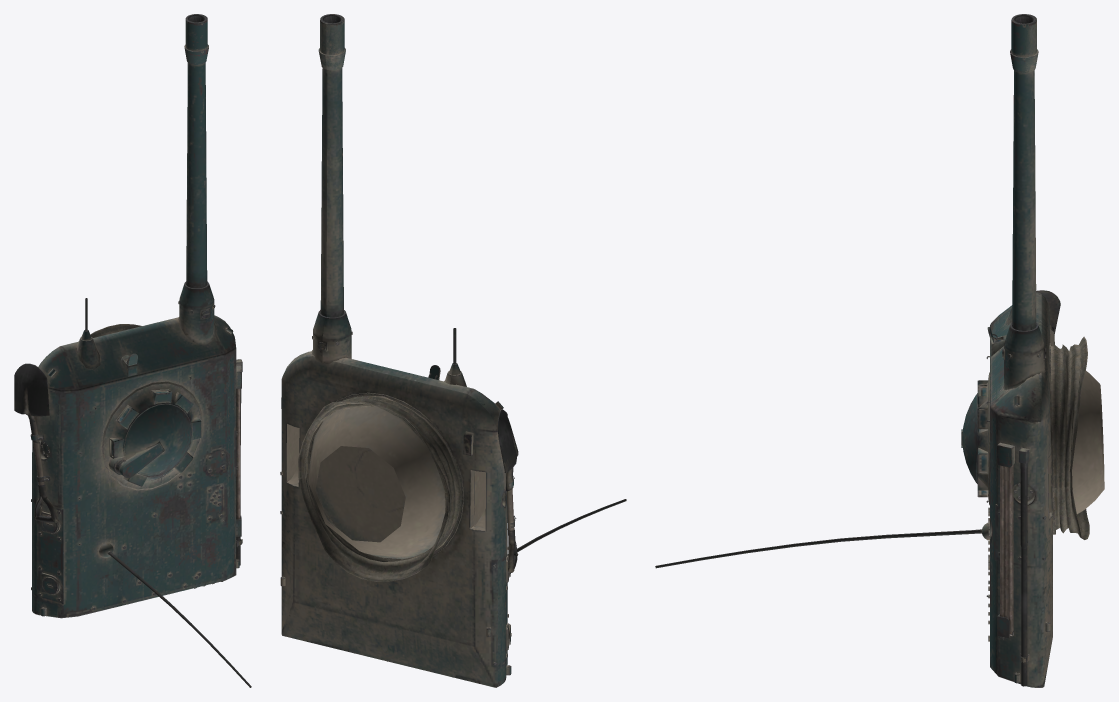
The model's file is Gun_01.glb.
3 renders of one model, left to right at view 1: azimuth 30°, elevation 25°; view 2: azimuth 150°, elevation 25°; view 3: azimuth 270°, elevation 25°, orthographic. The views are drawn at different scales.
Parts seen in each view (by area): view 1: set_0_group_0; view 2: set_0_group_0; view 3: set_0_group_0.
Part boxes in pixels (x1,y1,x2,y2): set_0_group_0: [14, 14, 251, 687]; set_0_group_0: [280, 14, 626, 687]; set_0_group_0: [655, 14, 1104, 687].
Bounding box in the file's own units: 1.42 × 3.52 × 2.21.
1 material, 1 textured.
